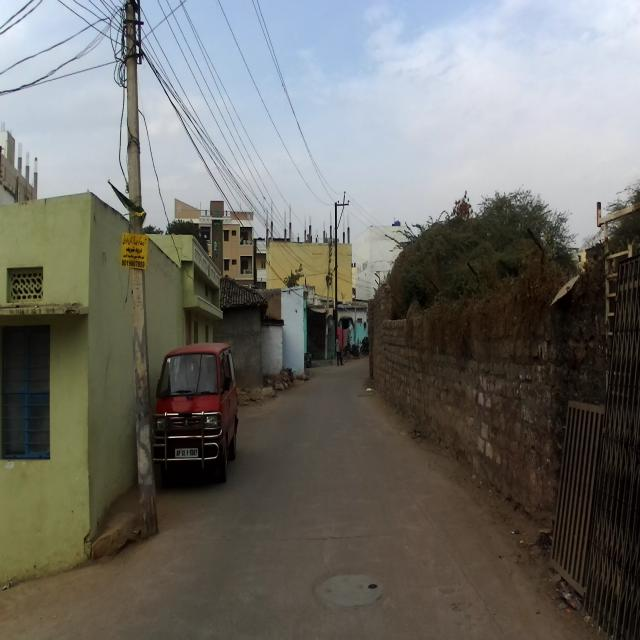car ahead at: (158, 340, 240, 488)
electric pole ahead at: (112, 5, 162, 536)
